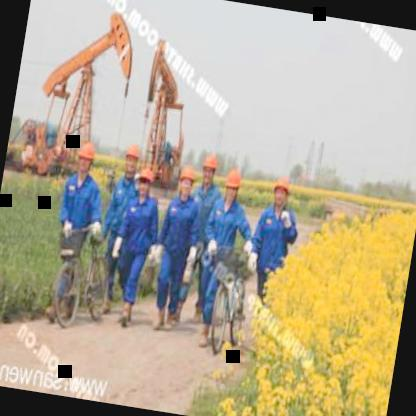helmet: (219, 161, 246, 204), (198, 143, 221, 188), (74, 138, 99, 176), (176, 159, 196, 199), (270, 172, 292, 208), (135, 164, 157, 200), (121, 140, 142, 173)
